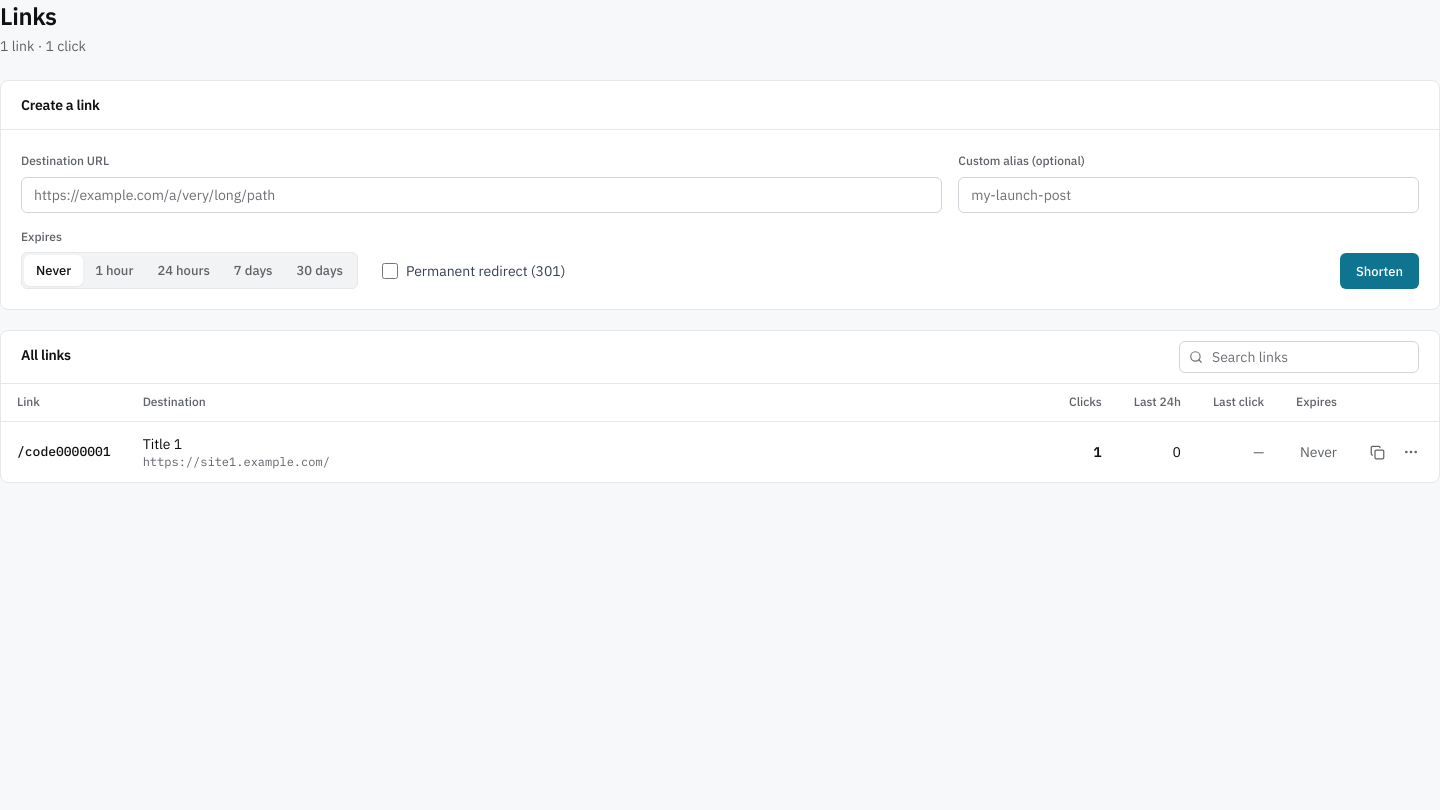
Test: Links page › asks for confirmation before deleting and surfaces a 403
Click the button named "More actions for /code0000001".
click(1411, 452)  # box [1395,436,1427,468]
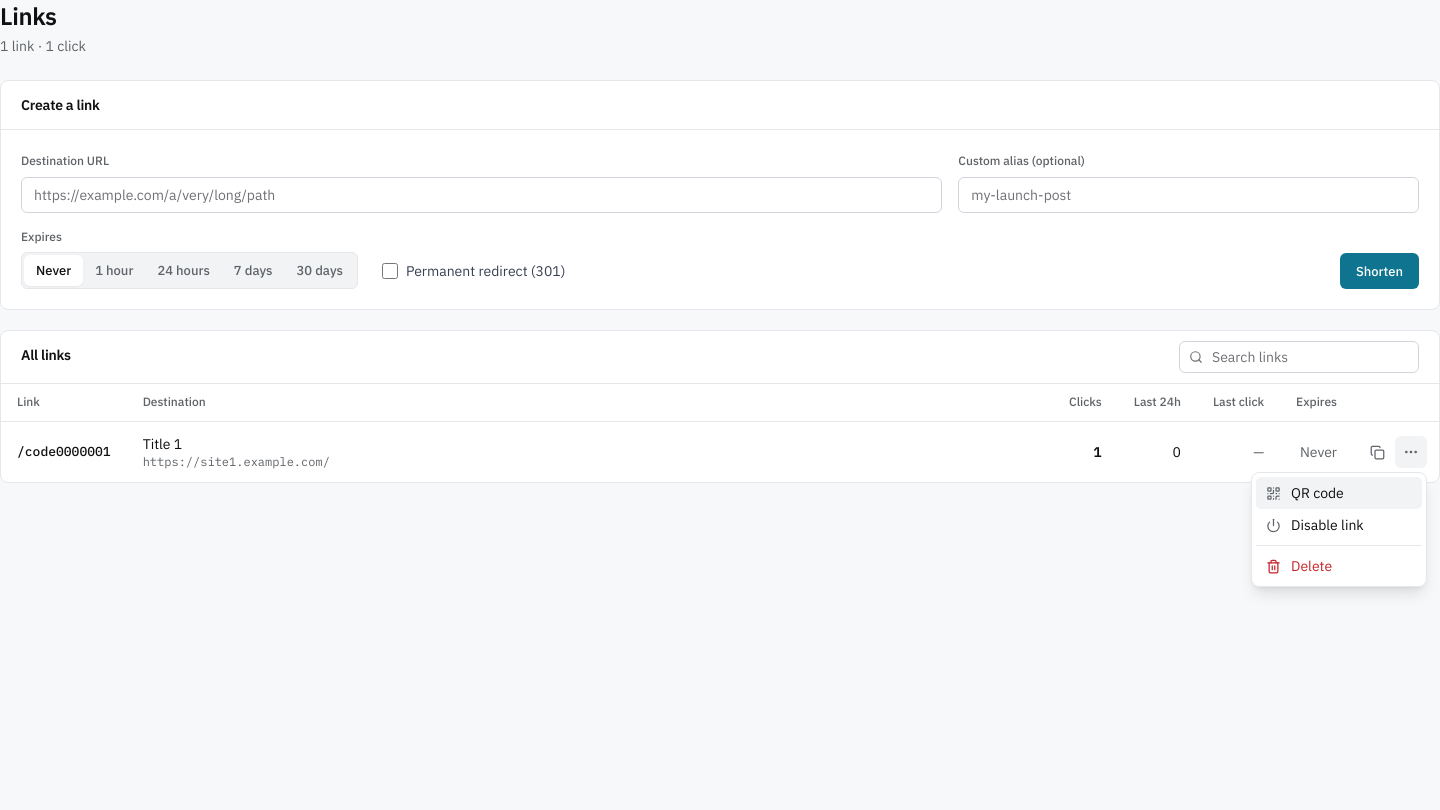
Result: the menu item with test id "qr-code0000001" is shown at [1256,477,1422,509]
Result: the menu item with test id "toggle-code0000001" reads "Disable link" at [1256,509,1422,541]
Click the menu item "Delete".
click(1339, 566)  # box [1256,550,1422,582]
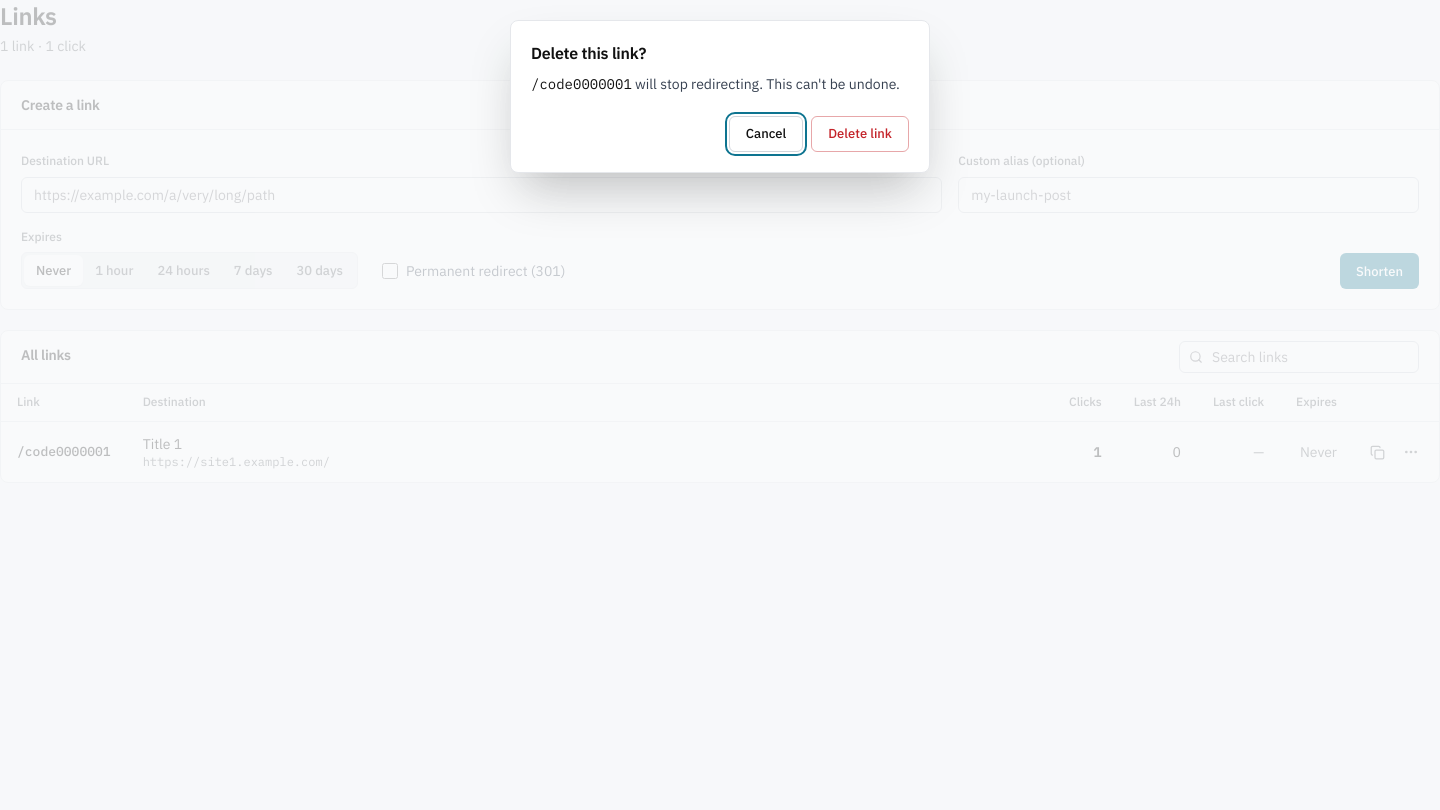
Result: the menu is gone
Click the button with test id "confirm-ok".
click(860, 134)  # box [811,116,909,152]
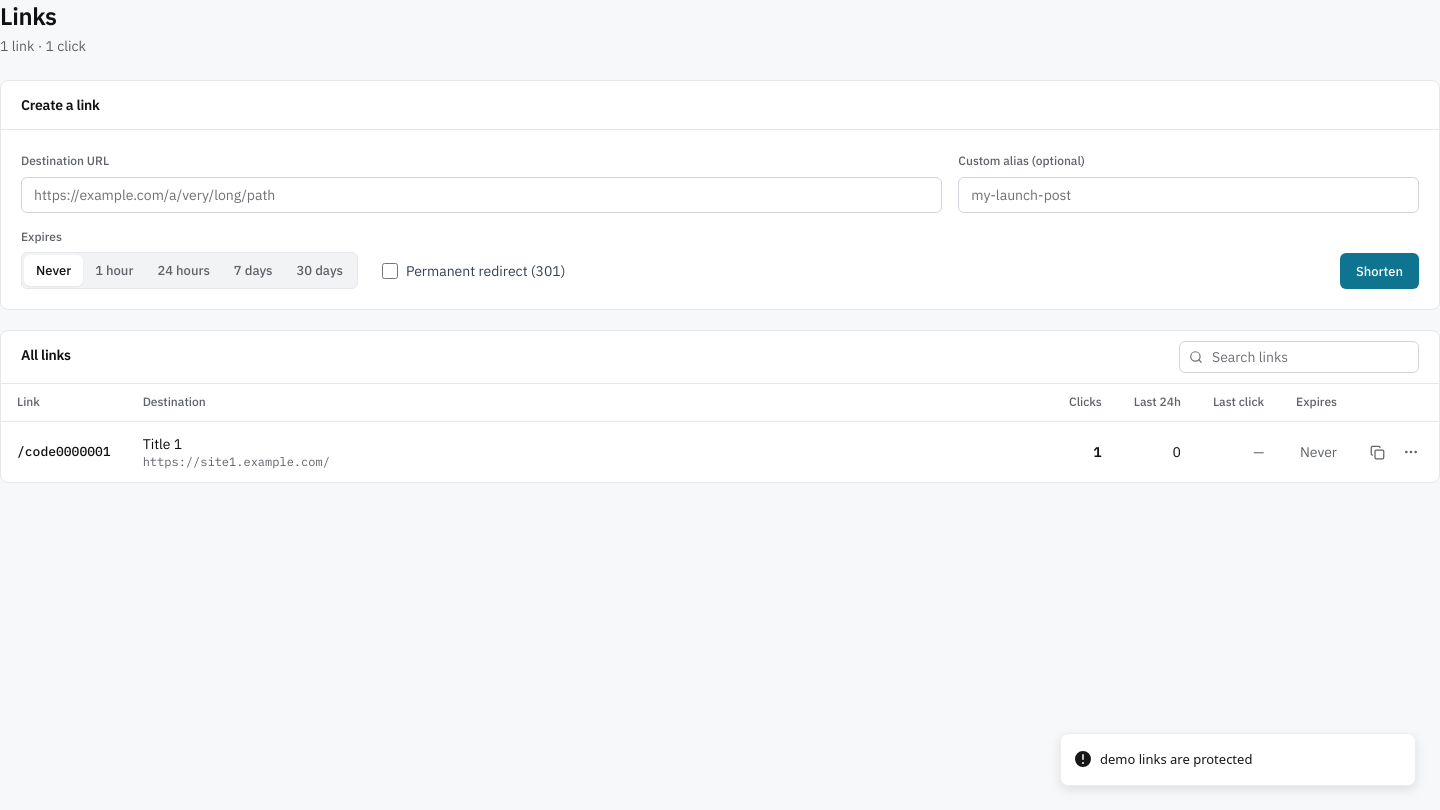
Result: the text "demo links are protected" is shown at [1100,750,1252,769]
